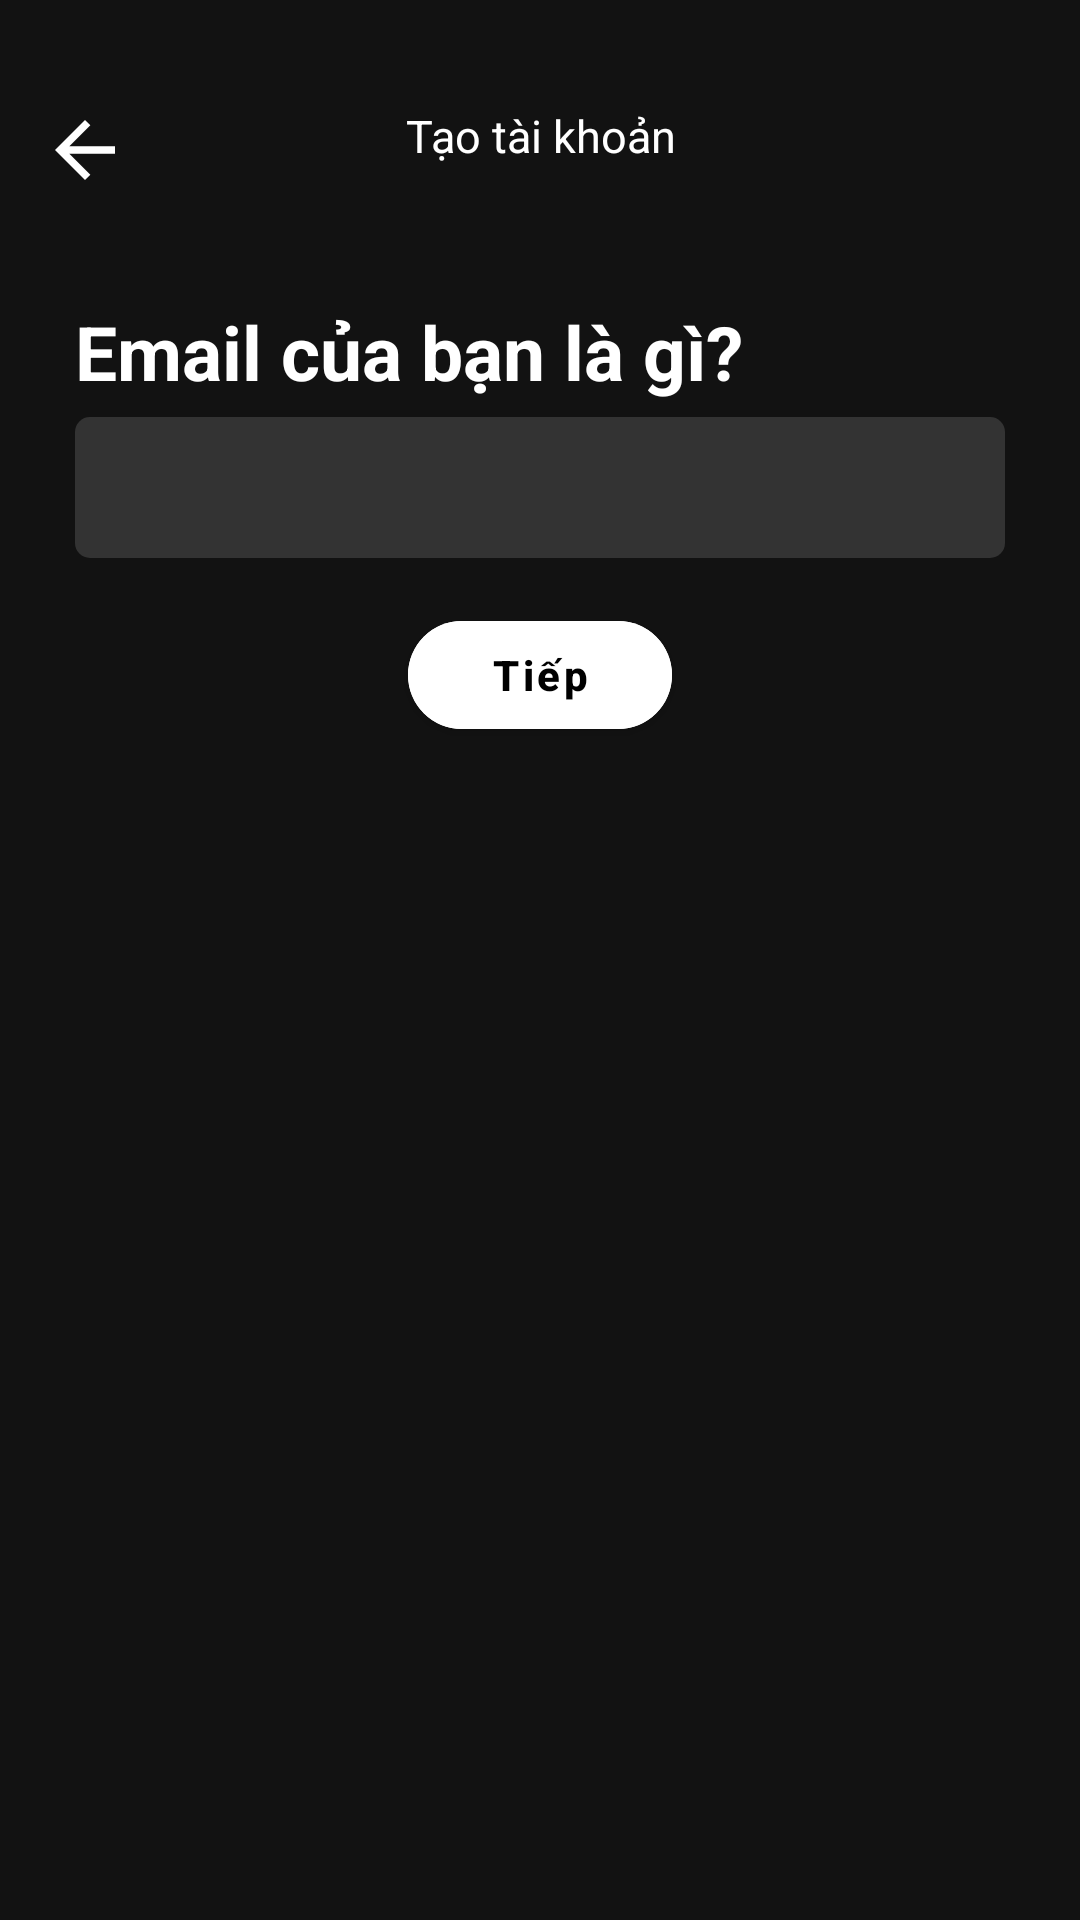

Named icons in this screenshot (1080*1920) and their bounding boxes, BBox(x1, y1, x2, y2):
arrow back: BBox(55, 120, 115, 180)
